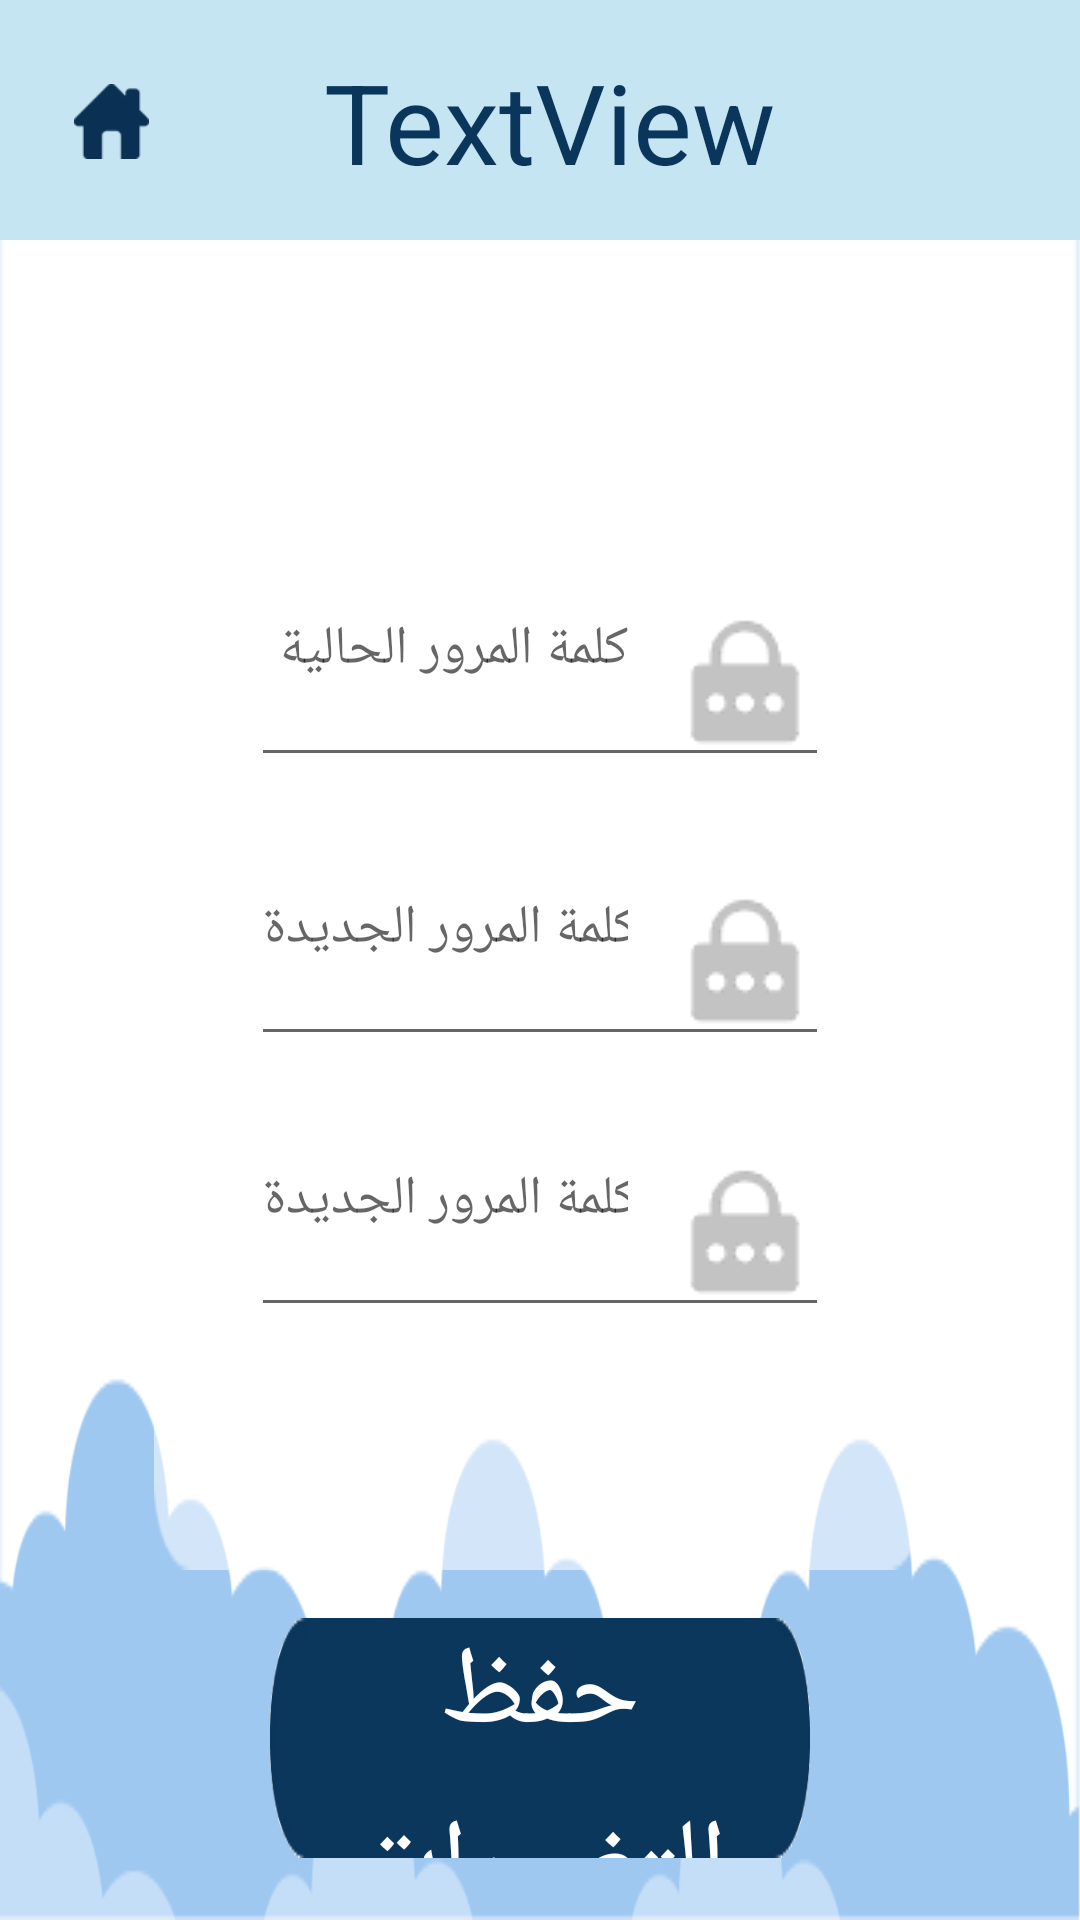

Where to tap for icons on this 1080px×1920px app screen, as (x=x, y=y):
home: (x=111, y=121)
